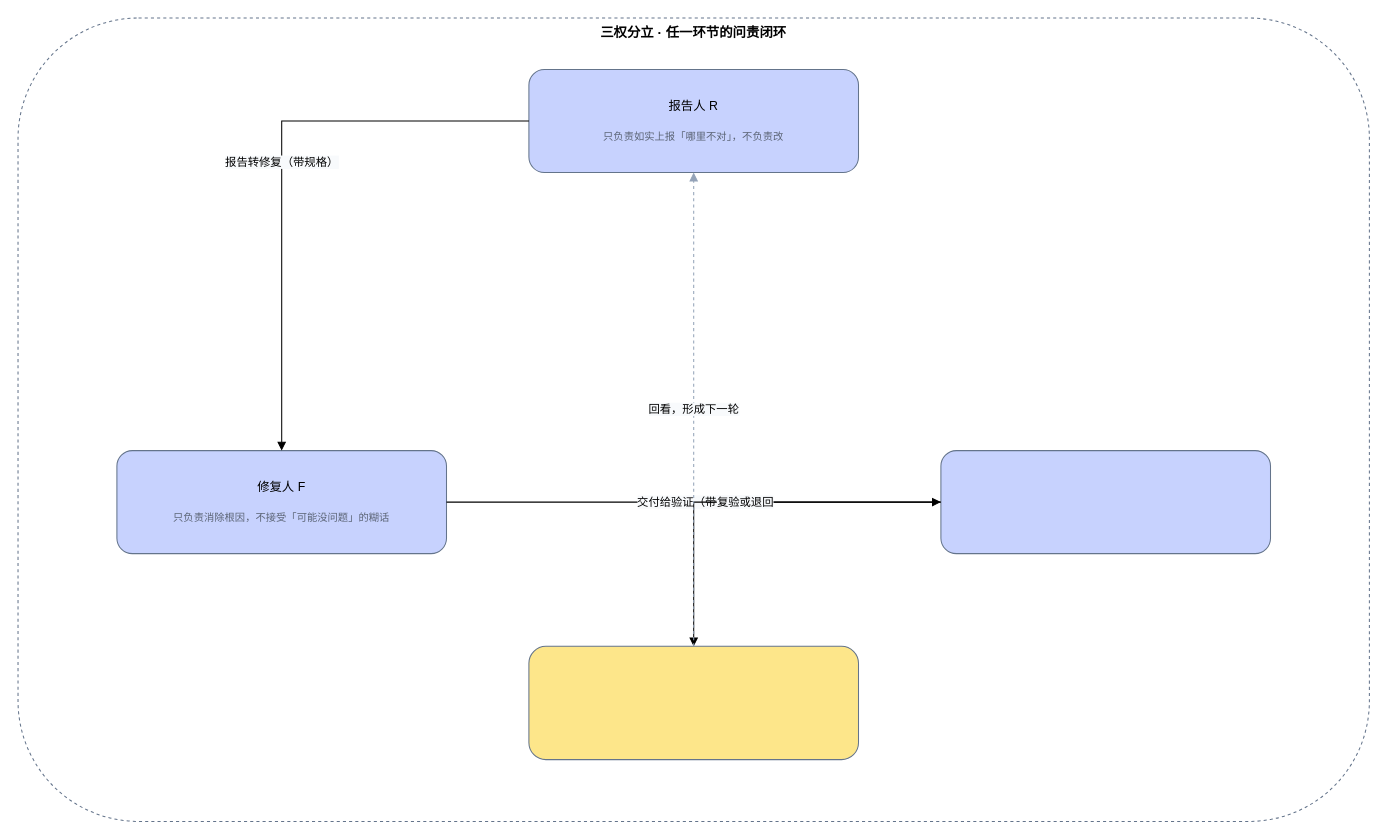
Image size: 1387x839. Some labels were removed from this diagram. The centre of each missing label's shape, as x and y in pixels:
"时间隔离 修完立刻自验约 100% 过 隔 30 分钟后复验，发现率翻倍" belongs at (x=693, y=702).
"验证人 V 只负责用可复现基准裁断，不参与修复" belongs at (x=1105, y=502).
